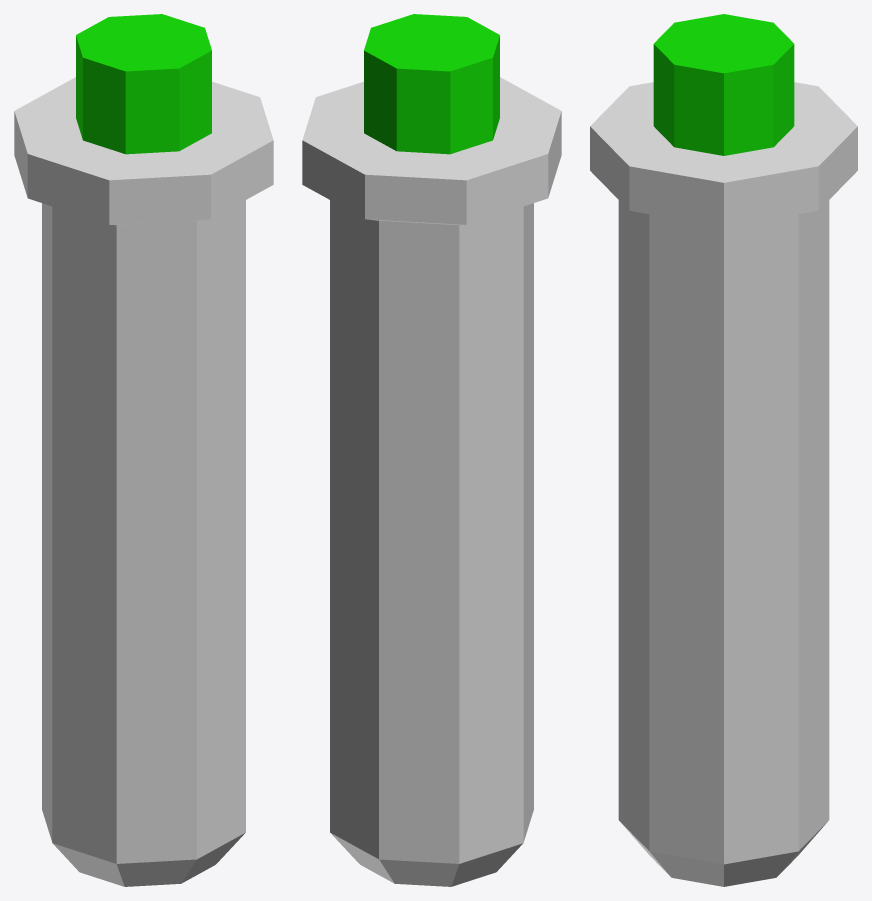
File: Potion2.glb
The picture shows the model from 3 angles, left to right: view 1: azimuth 30°, elevation 25°; view 2: azimuth 150°, elevation 25°; view 3: azimuth 270°, elevation 25°; orthographic projection.
Parts seen in each view (by area): view 1: Cylinder; view 2: Cylinder; view 3: Cylinder.
Part boxes in pixels (<box>): Cylinder: <box>14,14,273,886</box>; Cylinder: <box>302,14,561,886</box>; Cylinder: <box>590,14,857,886</box>.
Bounding box in the file's own units: 0.7615 × 2.58 × 0.7615.
